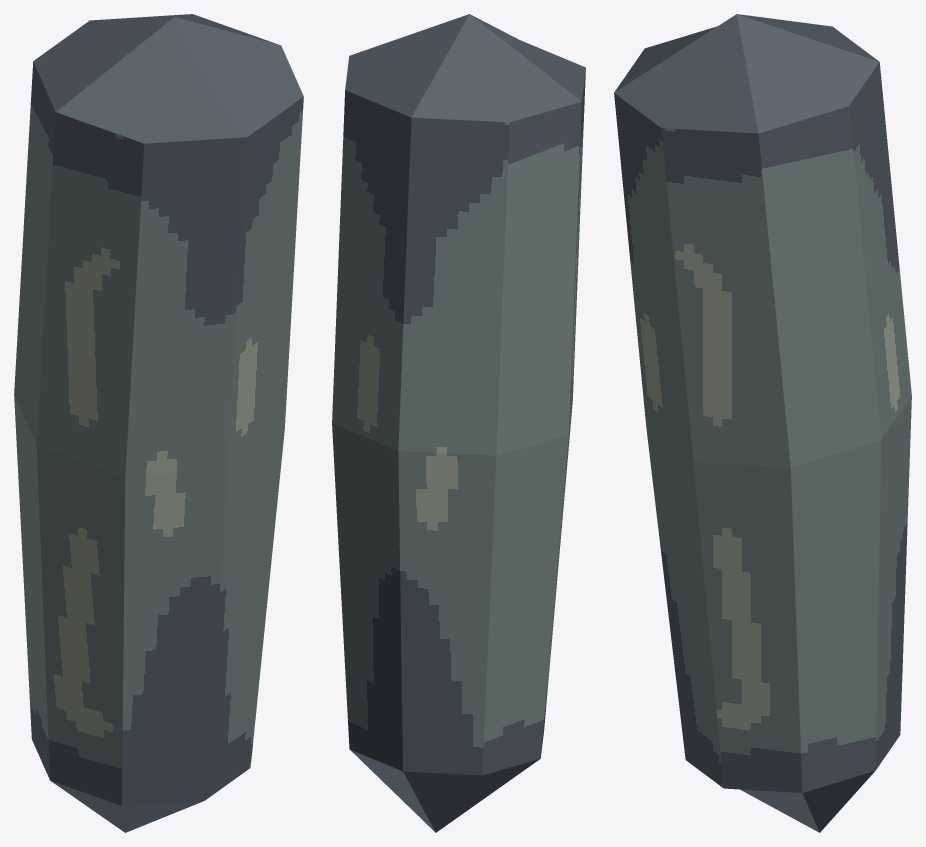
File: god_shin.glb
The picture shows the model from 3 angles, left to right: view 1: azimuth 30°, elevation 25°; view 2: azimuth 150°, elevation 25°; view 3: azimuth 270°, elevation 25°; orthographic projection. The views are drawn at different scales.
Visible parts, largest first — view 1: Cube.194; view 2: Cube.194; view 3: Cube.194.
Part boxes in pixels (x1,y1,x2,y2): Cube.194: (14,14,303,832); Cube.194: (332,14,585,832); Cube.194: (614,14,911,832).
Size of the model in its own units: 1.59 by 5.34 by 1.75.
Materials: 1 (1 with a texture image).
